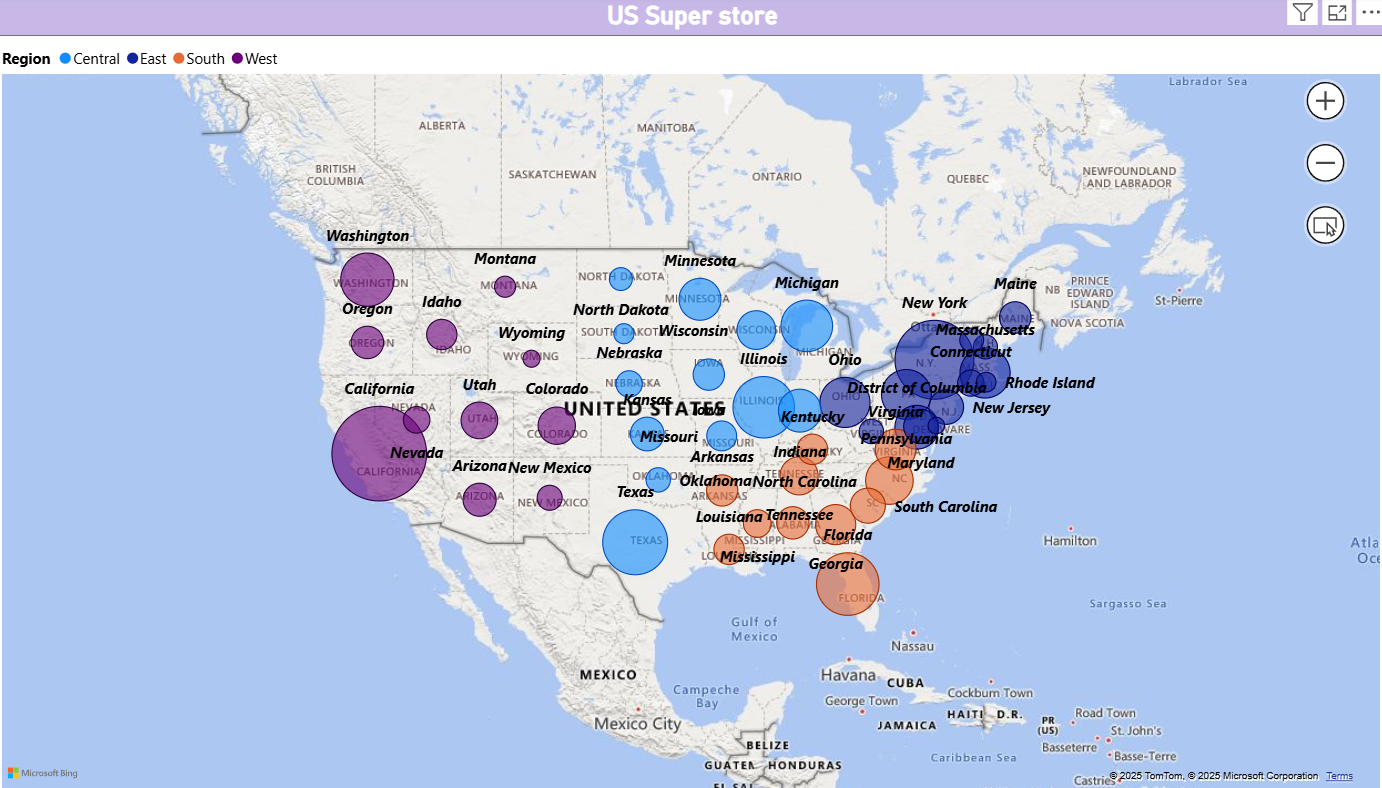

The dashboard page shown, as its layout file describes it:
{"tool":"powerbi","page":{"name":"Page 1","canvas":[1280,720],"ordinal":0},"visuals":[{"type":"map","title":"US Super store","fields":{"Series":["Orders.Region"],"Category":["Orders.State or Province"],"Size":["Sum(Orders.Quantity ordered new)"]},"box":[11,0,1255.6,720.4],"z":0}]}

Visuals, with their boxes in screenshot pixels (x1, y1, x2, y2), scaled from the page's 1280x720 canvas onto the 1382x788 screenshot:
"US Super store" map: 12,0,1368,787
